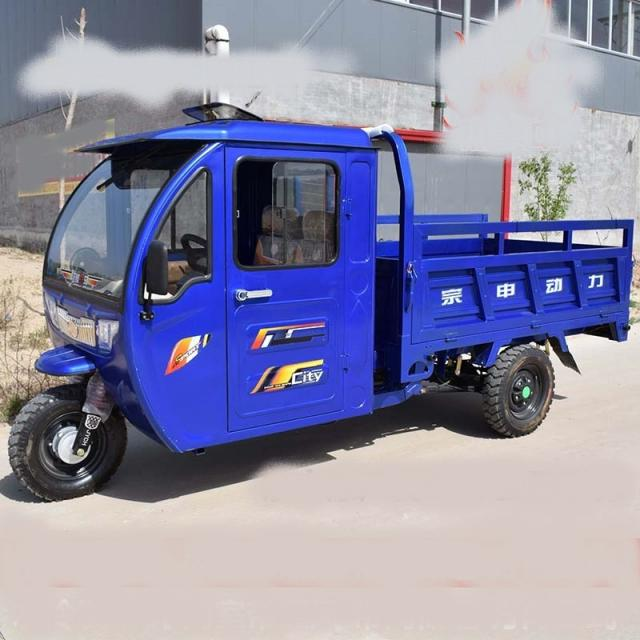tricycle: (7, 117, 633, 504)
